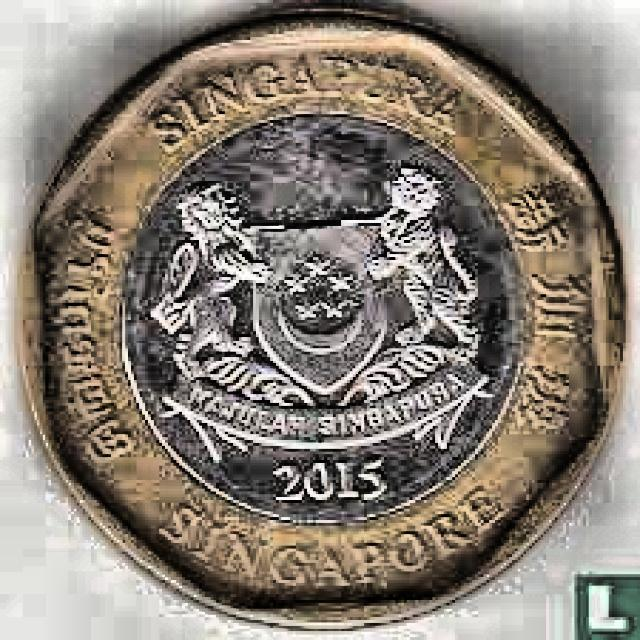coin: (17, 9, 620, 626)
